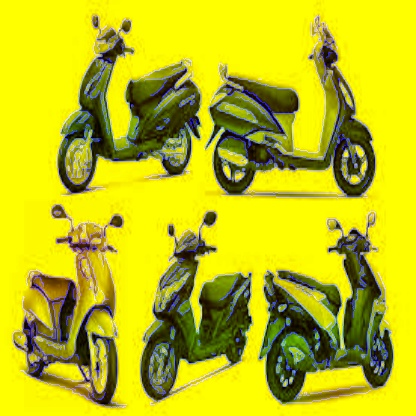bike: (202, 20, 381, 193), (57, 5, 193, 186), (264, 221, 401, 391), (9, 207, 130, 398), (142, 216, 253, 382)
